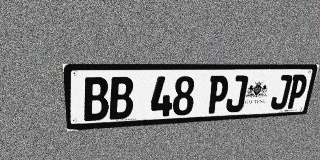4: (150, 76, 174, 117)
8: (172, 76, 196, 116)
B: (82, 77, 109, 121), (109, 77, 134, 120)
J: (225, 75, 249, 113), (269, 75, 293, 110)
P: (206, 76, 230, 114), (285, 75, 309, 109)
